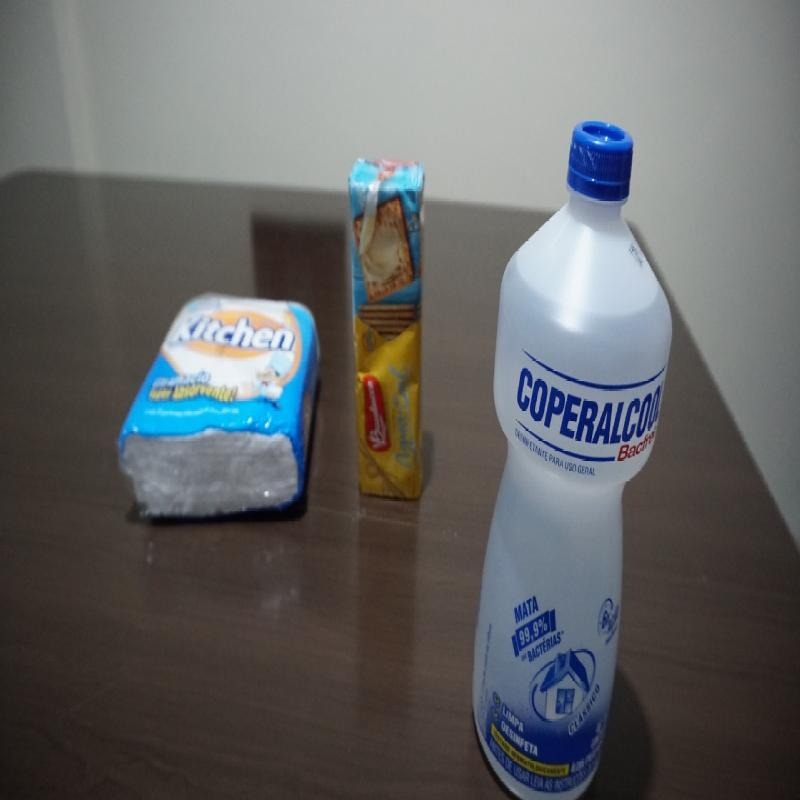Alcohol Bottle: (470, 119, 672, 800)
Cracker: (346, 155, 426, 507)
Napkin: (116, 291, 323, 526)
